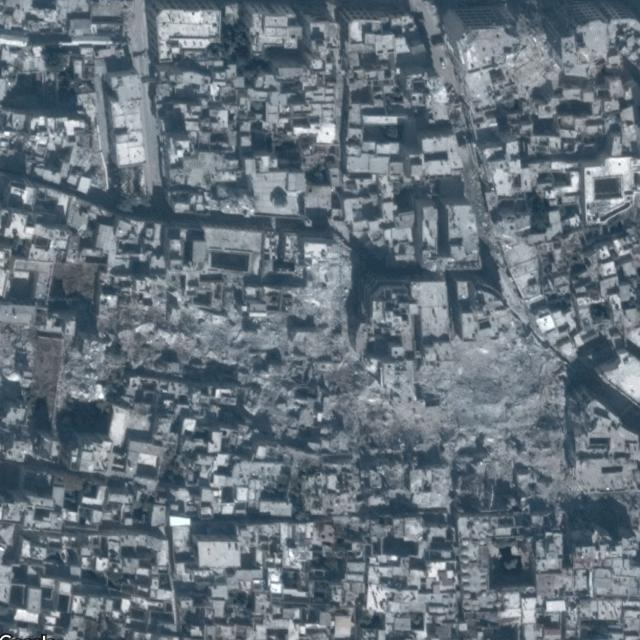damaged_building: (48, 233, 640, 541)
